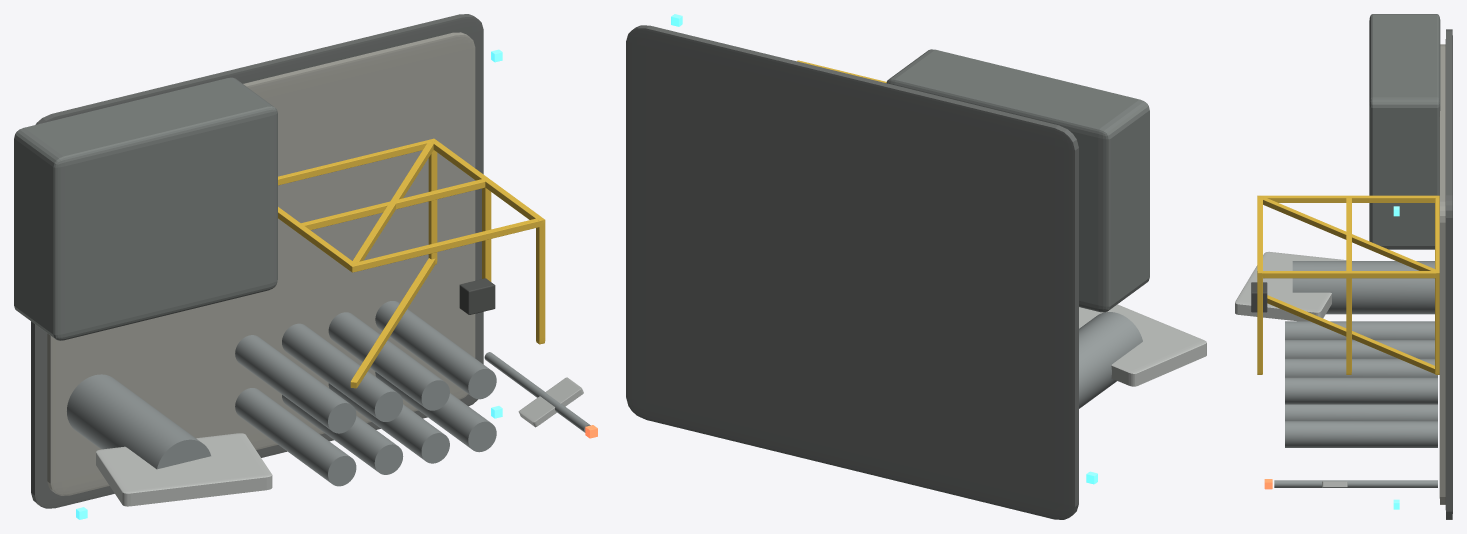
File: b-32-missile-battery-lod2.glb
3 views of the same model, side by side, from view 1: azimuth 30°, elevation 25°; view 2: azimuth 150°, elevation 25°; view 3: azimuth 270°, elevation 25° (orthographic). The views are drawn at different scales.
Visible parts, largest first — view 1: foundation_inner_pad, bunker_main, foundation, primary_tracking_radar, radar_pedestal, missile_01_tube, missile_05_tube, missile_06_tube, missile_07_tube, missile_08_tube, missile_02_tube, missile_04_tube (+14 smaller); view 2: foundation, bunker_main, primary_tracking_radar, radar_pedestal; view 3: bunker_main, radar_pedestal, missile_08_tube, missile_04_tube, foundation, primary_tracking_radar, foundation_inner_pad, missile_07_tube, missile_03_tube, missile_05_tube, missile_06_tube, reload_crane_brace_b_-1.5 (+11 smaller).
Boxes of the visible parts, bbox=[...] form: foundation_inner_pad: bbox=[47, 32, 475, 495]; bunker_main: bbox=[14, 77, 277, 340]; foundation: bbox=[31, 14, 483, 508]; primary_tracking_radar: bbox=[96, 433, 272, 506]; radar_pedestal: bbox=[67, 374, 210, 469]; missile_01_tube: bbox=[235, 388, 356, 486]; missile_05_tube: bbox=[235, 335, 356, 433]; missile_06_tube: bbox=[282, 323, 403, 421]; missile_07_tube: bbox=[328, 312, 449, 410]; missile_08_tube: bbox=[375, 301, 496, 399]; missile_02_tube: bbox=[282, 395, 403, 474]; missile_04_tube: bbox=[375, 372, 496, 452]; foundation: bbox=[626, 25, 1078, 519]; bunker_main: bbox=[886, 49, 1149, 312]; primary_tracking_radar: bbox=[1079, 304, 1206, 386]; radar_pedestal: bbox=[1079, 312, 1142, 408]; bunker_main: bbox=[1369, 14, 1440, 249]; radar_pedestal: bbox=[1292, 261, 1434, 314]; missile_08_tube: bbox=[1285, 377, 1437, 404]; missile_04_tube: bbox=[1285, 421, 1437, 447]; foundation: bbox=[1445, 29, 1452, 519]; primary_tracking_radar: bbox=[1235, 251, 1346, 321]; foundation_inner_pad: bbox=[1439, 44, 1445, 504]; missile_07_tube: bbox=[1285, 358, 1437, 377]; missile_03_tube: bbox=[1285, 404, 1437, 420]; missile_05_tube: bbox=[1285, 321, 1434, 339]; missile_06_tube: bbox=[1285, 340, 1434, 358]; reload_crane_brace_b_-1.5: bbox=[1267, 295, 1435, 373].
Size of what is drawn, in the model's own units: 13.38 by 10.05 by 6.12.
